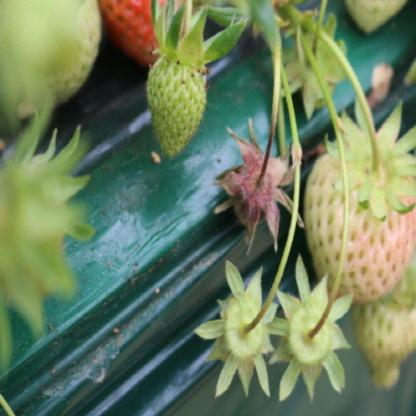Strawberry_Gray_Mold: (210, 118, 306, 253)
